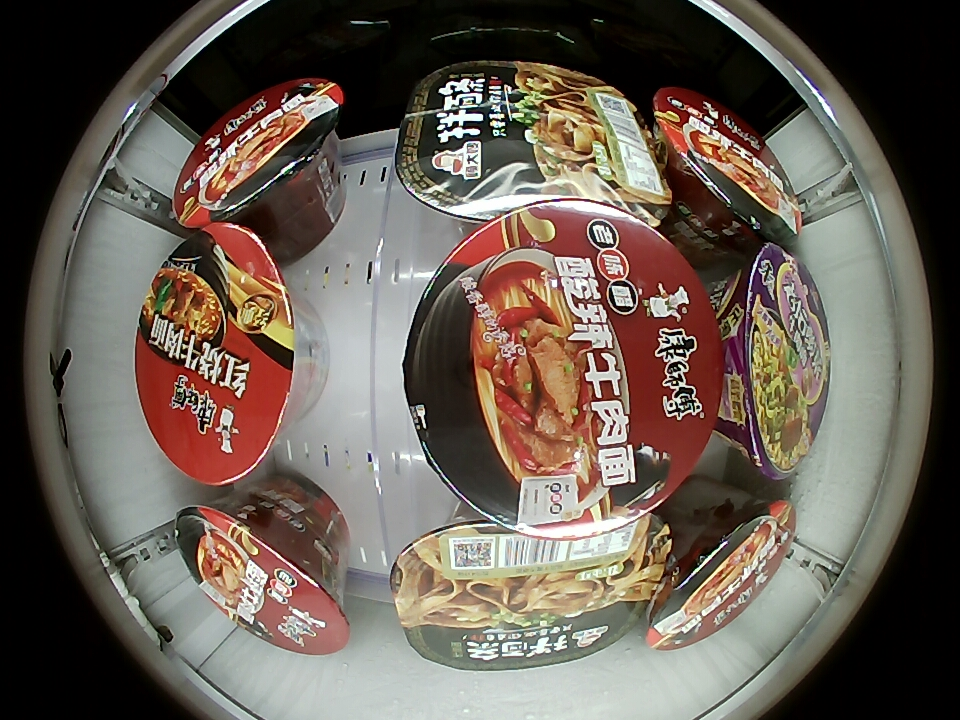gudasao: (394, 60, 676, 221), (389, 513, 674, 670)
hongshaoniurou: (135, 224, 299, 484)
laotansuancai: (716, 243, 829, 480)
suanlaniurou: (403, 201, 723, 541), (174, 501, 349, 656), (174, 78, 344, 225), (651, 87, 803, 247), (647, 498, 797, 651)
